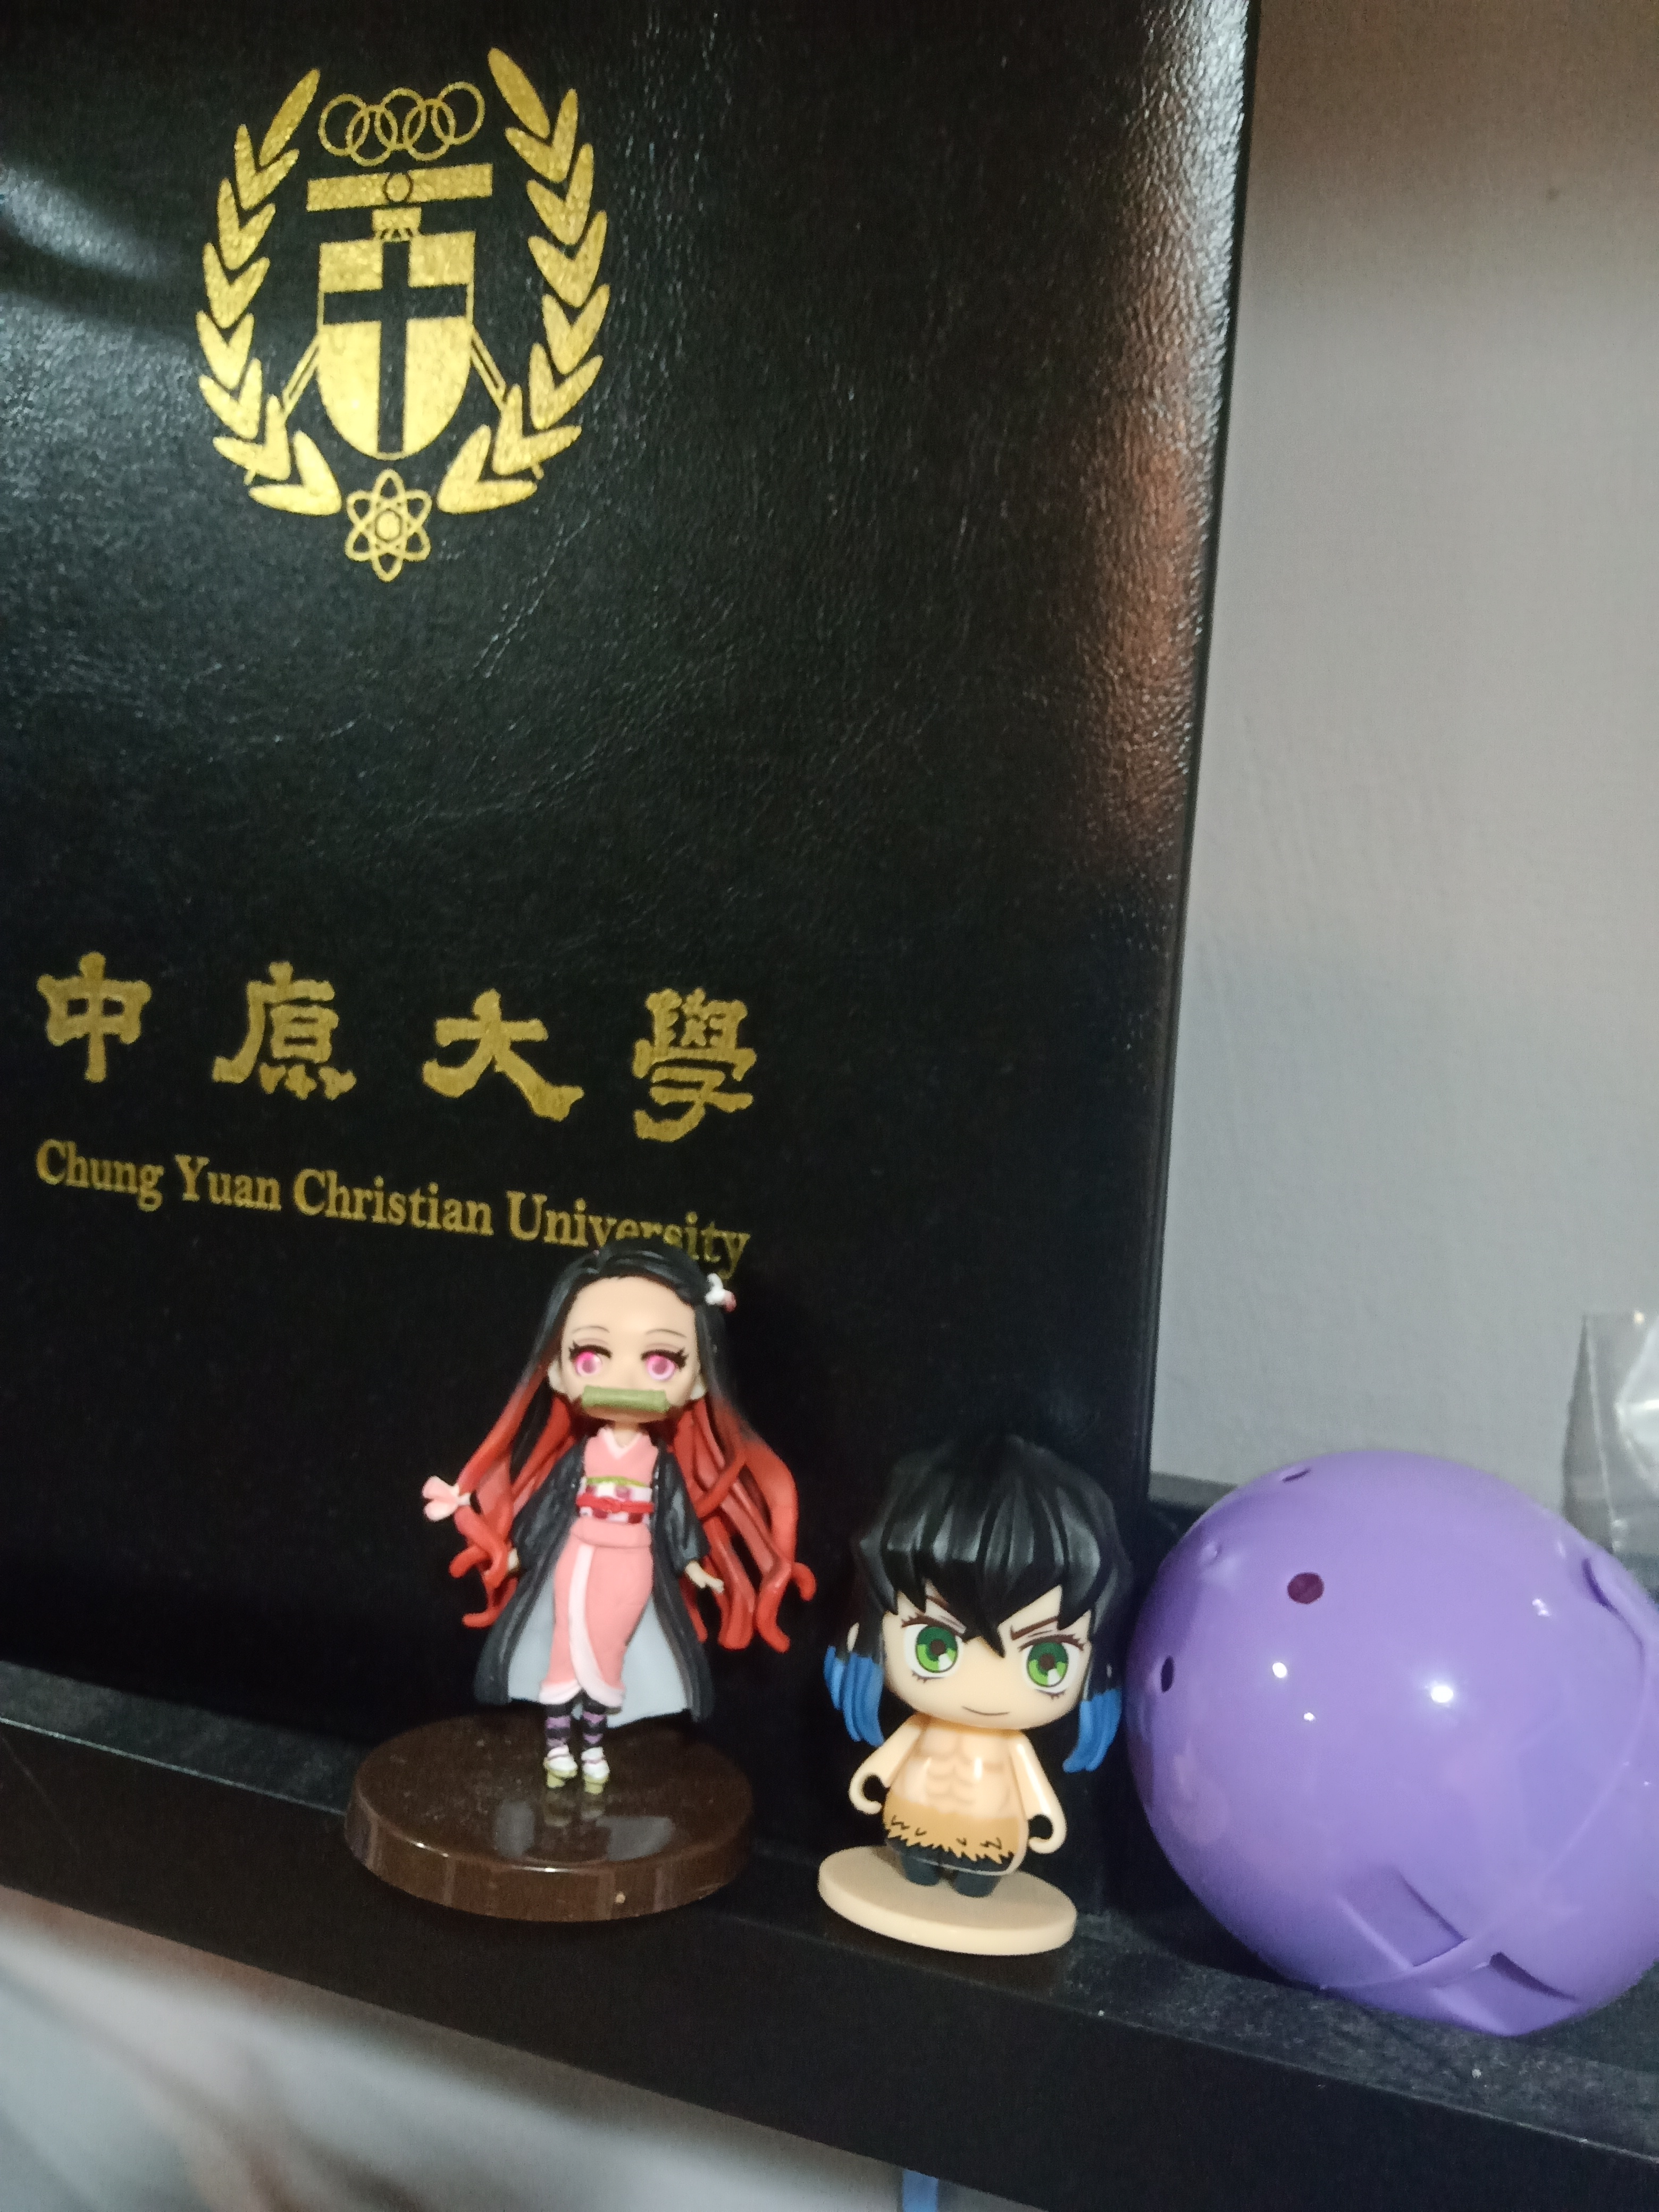Inosuke: (816, 1420, 1133, 1973)
Nezuko: (328, 1216, 840, 1939)
